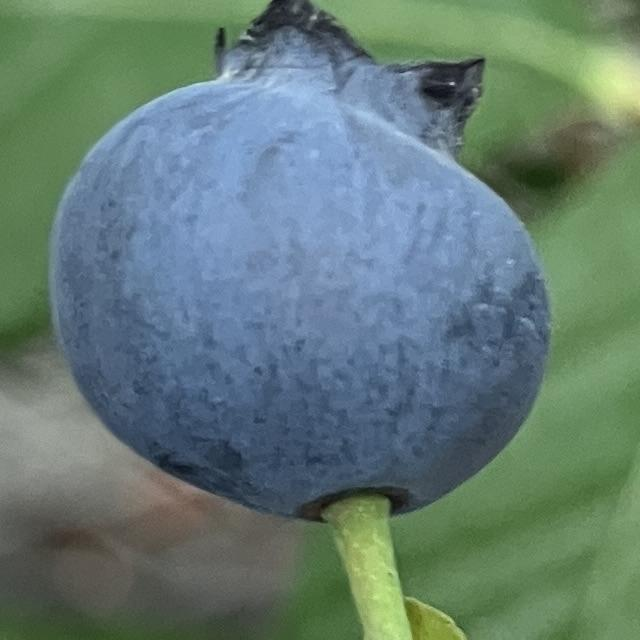Blueberries: (42, 0, 554, 527)
